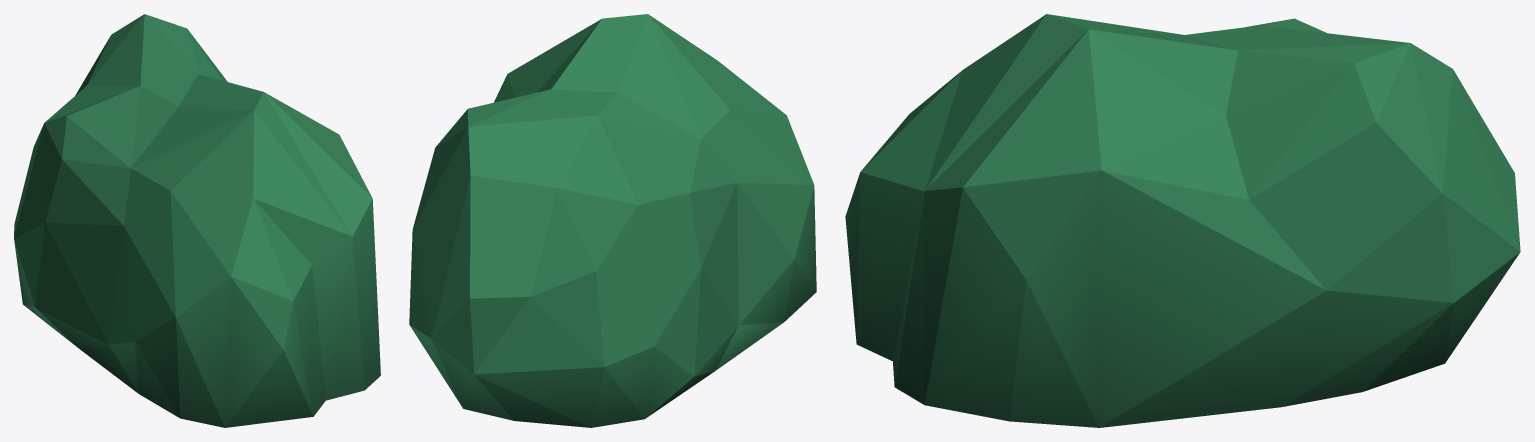
File: bush_wall_2.fbx
3 views of the same model, side by side, from view 1: azimuth 30°, elevation 25°; view 2: azimuth 150°, elevation 25°; view 3: azimuth 270°, elevation 25° (orthographic). The views are drawn at different scales.
Visible parts, largest first — view 1: bush_wall_2; view 2: bush_wall_2; view 3: bush_wall_2.
Boxes of the visible parts, box(x1,y1,x2,y2) form: bush_wall_2: box(14, 14, 380, 427); bush_wall_2: box(409, 14, 816, 427); bush_wall_2: box(845, 14, 1520, 427).
Size of the model in its own units: 1.19 by 2.1 by 1.17.
